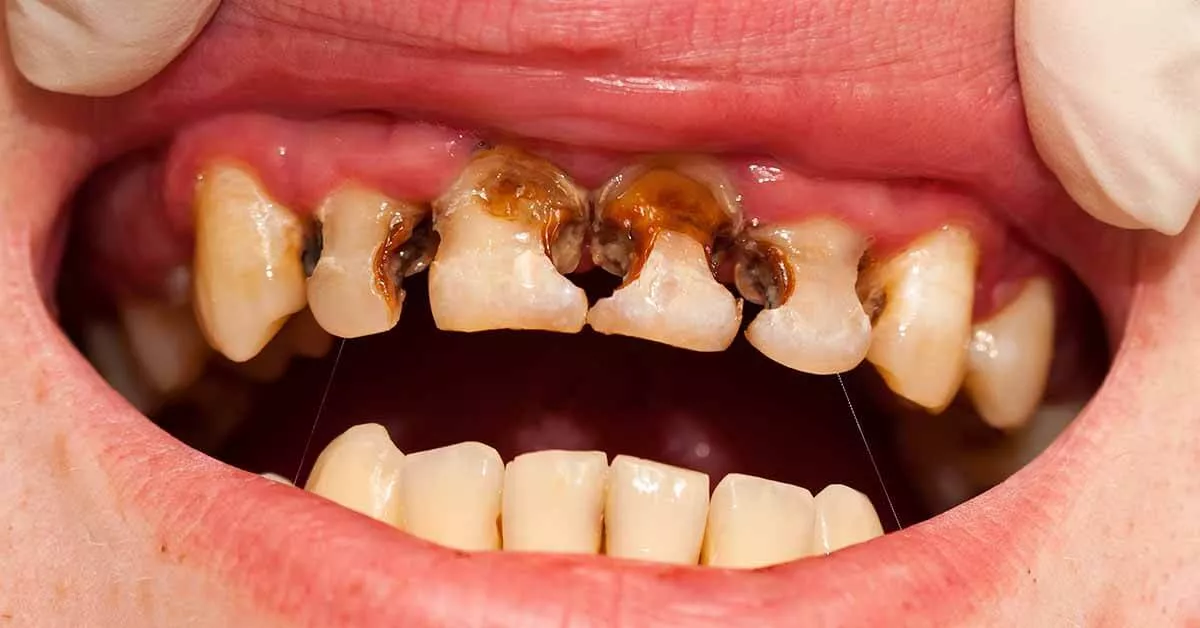karies: (598, 159, 734, 231), (371, 201, 446, 312), (475, 157, 577, 223), (733, 237, 801, 312), (846, 242, 895, 324), (290, 198, 333, 284)
